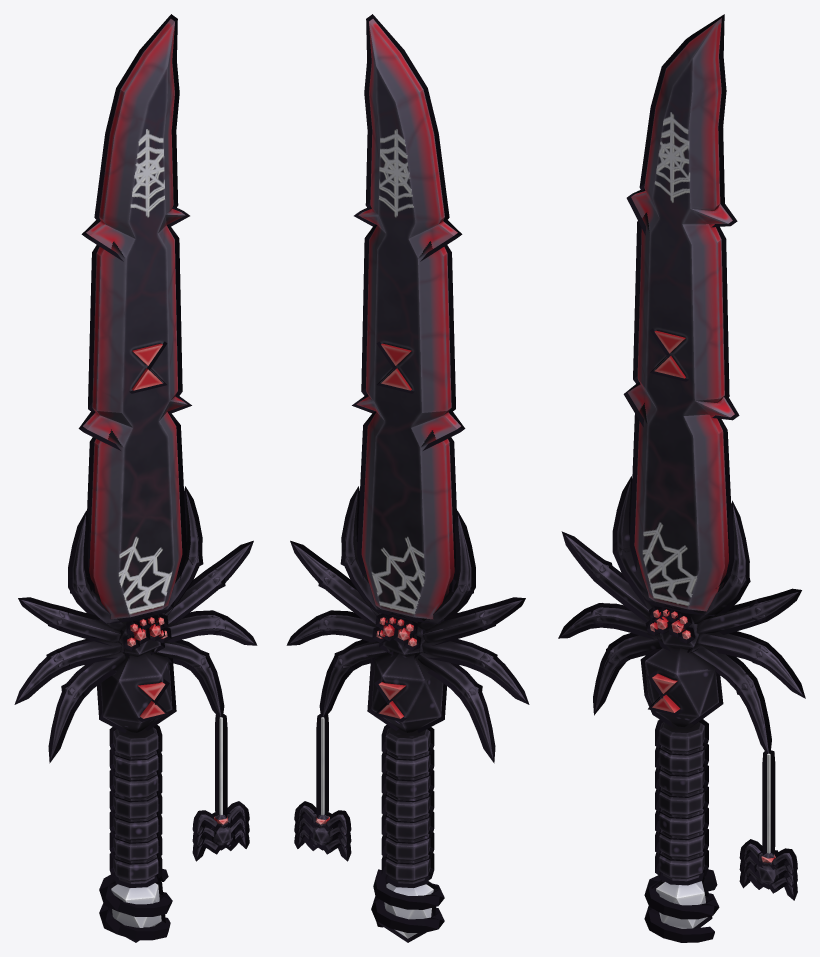
The model's file is SpiderSword.fbx.
3 renders of one model, left to right at view 1: azimuth 30°, elevation 25°; view 2: azimuth 150°, elevation 25°; view 3: azimuth 330°, elevation 25°, orthographic.
Parts seen in each view (by area): view 1: SpiderSword, SpiderSwordOutline, SpiderSwordSpiderEye; view 2: SpiderSword, SpiderSwordOutline, SpiderSwordSpiderEye; view 3: SpiderSword, SpiderSwordOutline, SpiderSwordSpiderEye.
Boxes of the visible parts, <box> form: SpiderSword: <box>18,19,253,927</box>; SpiderSwordOutline: <box>14,14,257,942</box>; SpiderSwordSpiderEye: <box>127,617,228,824</box>; SpiderSword: <box>290,19,525,938</box>; SpiderSwordOutline: <box>286,14,529,942</box>; SpiderSwordSpiderEye: <box>315,617,416,824</box>; SpiderSword: <box>562,18,802,928</box>; SpiderSwordOutline: <box>558,14,805,942</box>; SpiderSwordSpiderEye: <box>650,609,775,862</box>.
Size of the model in its own units: 131 by 473 by 36.93.
Materials: 2 (1 with a texture image).
